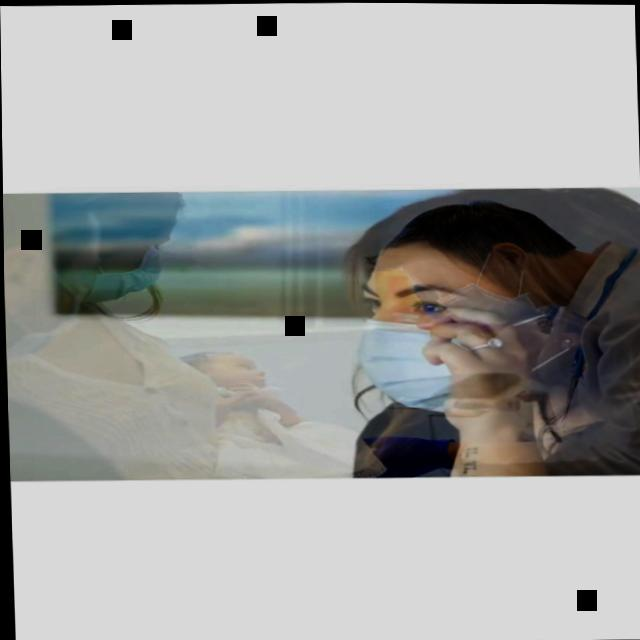Mask: (361, 239, 556, 410), (3, 216, 105, 354), (391, 238, 537, 323), (87, 235, 164, 305)
NO-Mask: (194, 351, 269, 394)
